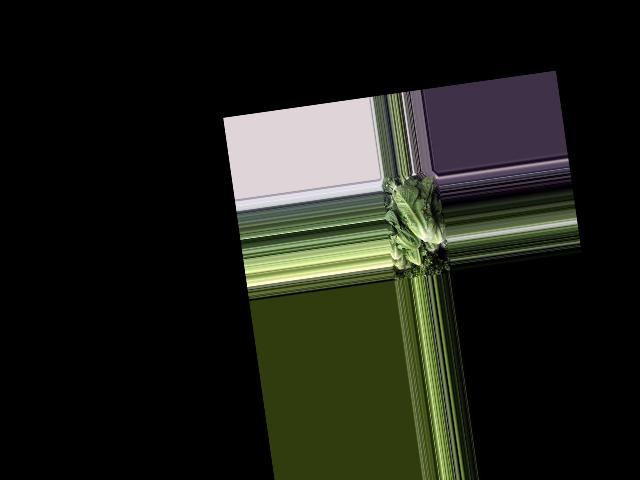lettuce: (386, 204, 421, 254)
